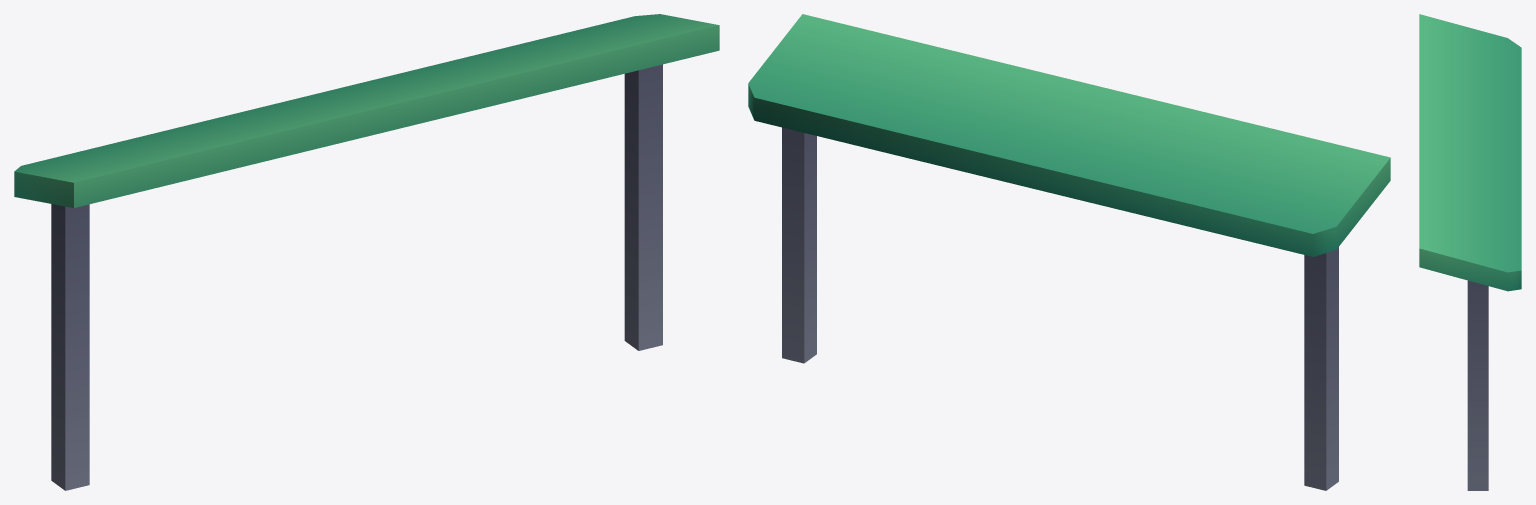
3 renders of one model, left to right at view 1: azimuth 30°, elevation 25°; view 2: azimuth 150°, elevation 25°; view 3: azimuth 270°, elevation 25°, orthographic. The views are drawn at different scales.
Visible parts, largest first — view 1: detail-awning-wide; view 2: detail-awning-wide; view 3: detail-awning-wide.
Part boxes in pixels (x1,y1,x2,y2): detail-awning-wide: [14, 14, 719, 490]; detail-awning-wide: [748, 14, 1390, 490]; detail-awning-wide: [1419, 14, 1521, 490].
Size of the model in its own units: 7.42 by 3.71 by 1.37.
Materials: 1 (1 with a texture image).
